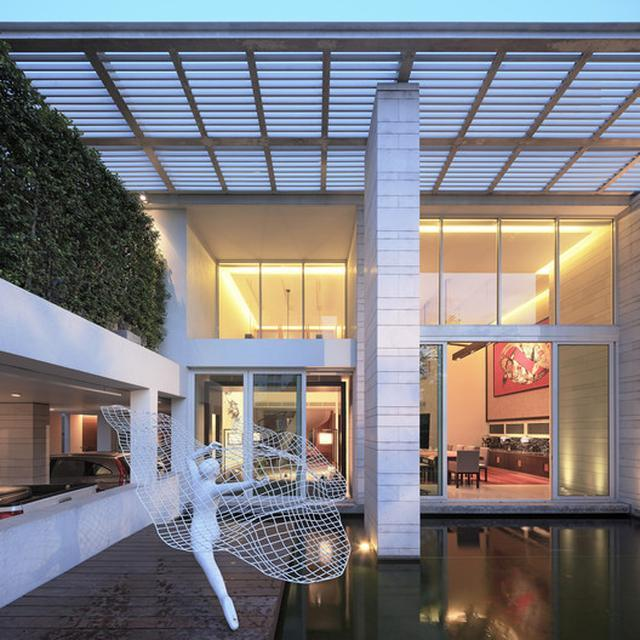building: (0, 17, 640, 593)
